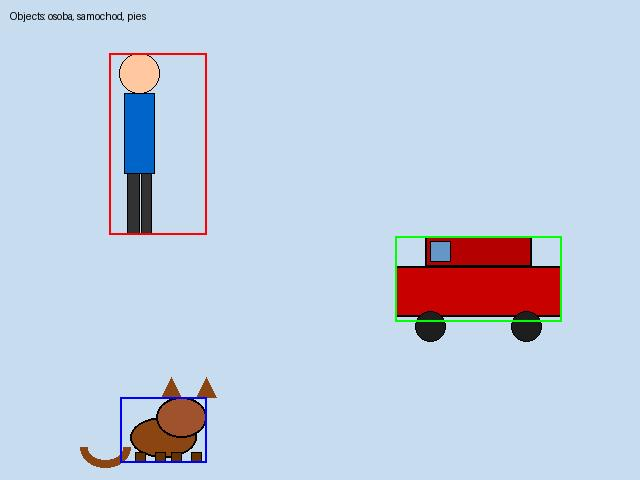osoba: (109, 53, 206, 234)
pies: (120, 397, 206, 462)
samochod: (395, 236, 561, 321)
